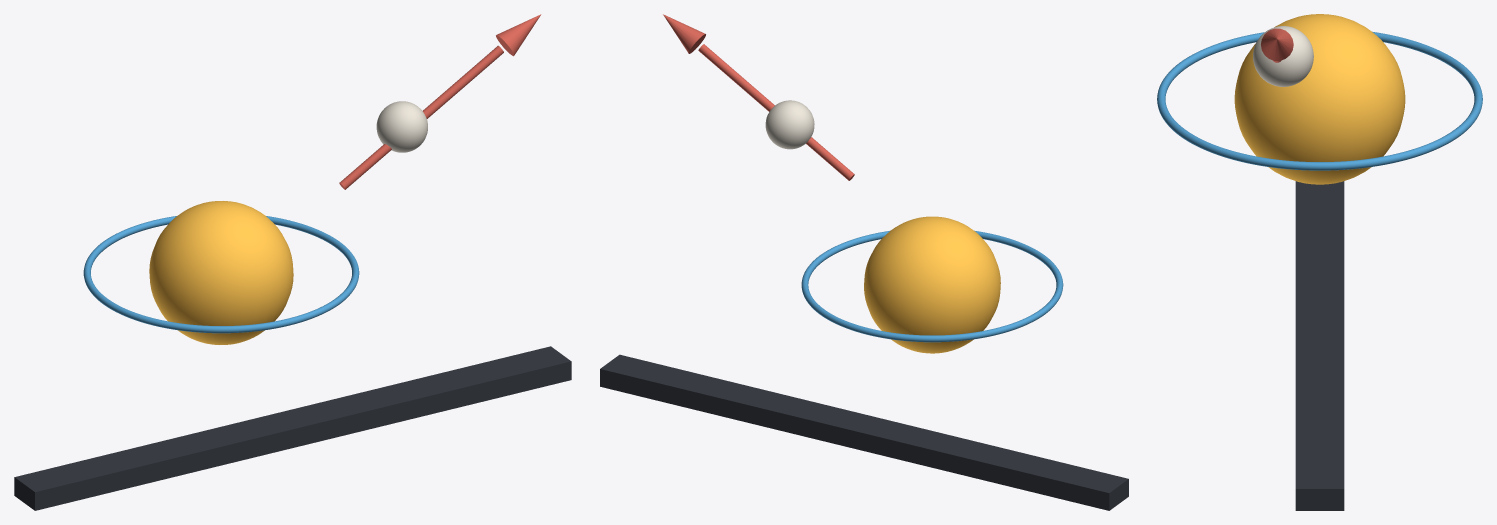
File: space-escape-speed.glb
3 renders of one model, left to right at view 1: azimuth 30°, elevation 25°; view 2: azimuth 150°, elevation 25°; view 3: azimuth 270°, elevation 25°, orthographic. The views are drawn at different scales.
Visible parts, largest first — view 1: gravity-orbit-bench, central-mass-escape-world, bound-orbit-reference, escaping-craft, escape-path-open-trajectory-shaft, escape-path-open-trajectory-head; view 2: gravity-orbit-bench, central-mass-escape-world, bound-orbit-reference, escaping-craft, escape-path-open-trajectory-shaft, escape-path-open-trajectory-head; view 3: central-mass-escape-world, gravity-orbit-bench, bound-orbit-reference, escaping-craft, escape-path-open-trajectory-head.
Part boxes in pixels (x1,y1,x2,y2): gravity-orbit-bench: [14, 346, 571, 510]; central-mass-escape-world: [149, 201, 293, 344]; bound-orbit-reference: [83, 216, 359, 333]; escaping-craft: [376, 101, 427, 152]; escape-path-open-trajectory-shaft: [339, 45, 503, 189]; escape-path-open-trajectory-head: [496, 14, 541, 56]; gravity-orbit-bench: [600, 354, 1128, 510]; central-mass-escape-world: [864, 216, 1000, 353]; bound-orbit-reference: [801, 230, 1063, 342]; escaping-craft: [765, 100, 814, 149]; escape-path-open-trajectory-shaft: [698, 44, 854, 180]; escape-path-open-trajectory-head: [663, 14, 705, 53]; central-mass-escape-world: [1234, 14, 1405, 184]; gravity-orbit-bench: [1295, 181, 1344, 510]; bound-orbit-reference: [1157, 31, 1482, 170]; escaping-craft: [1253, 26, 1313, 86]; escape-path-open-trajectory-head: [1261, 28, 1293, 60].
Size of what is drawn, in the model's own units: 2.4 by 1.63 by 1.07.
